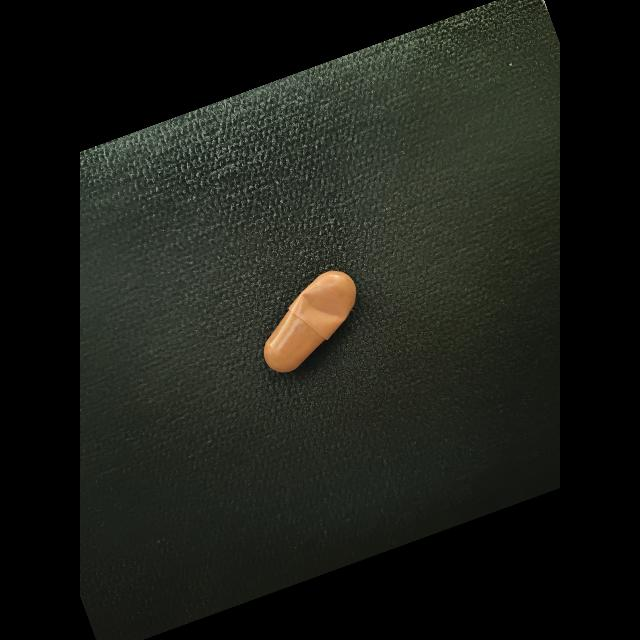Defective Capsule: (299, 287, 348, 323)
